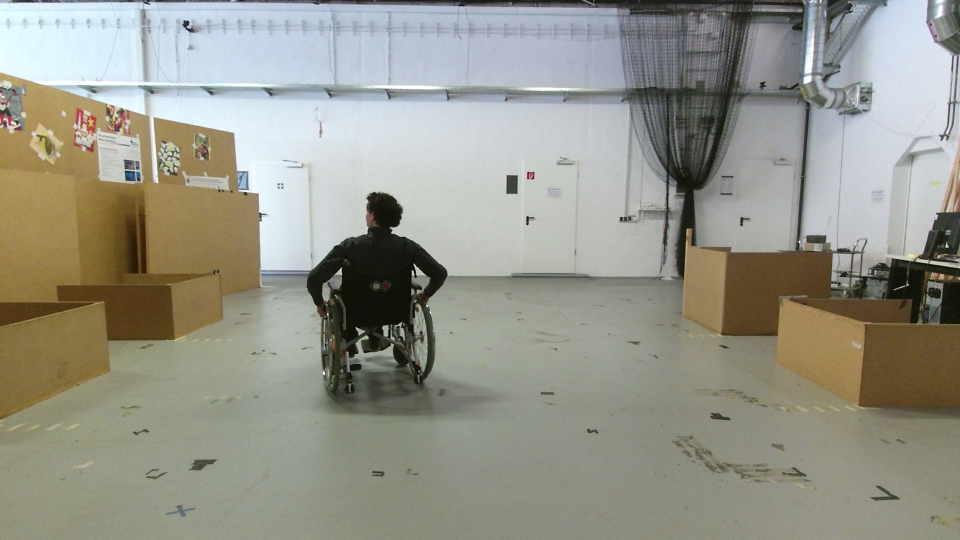wheelchair: (299, 183, 455, 405)
